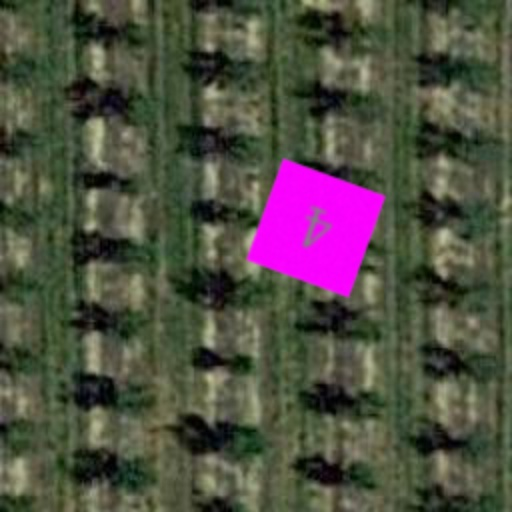rectangle: (244, 156, 388, 300)
